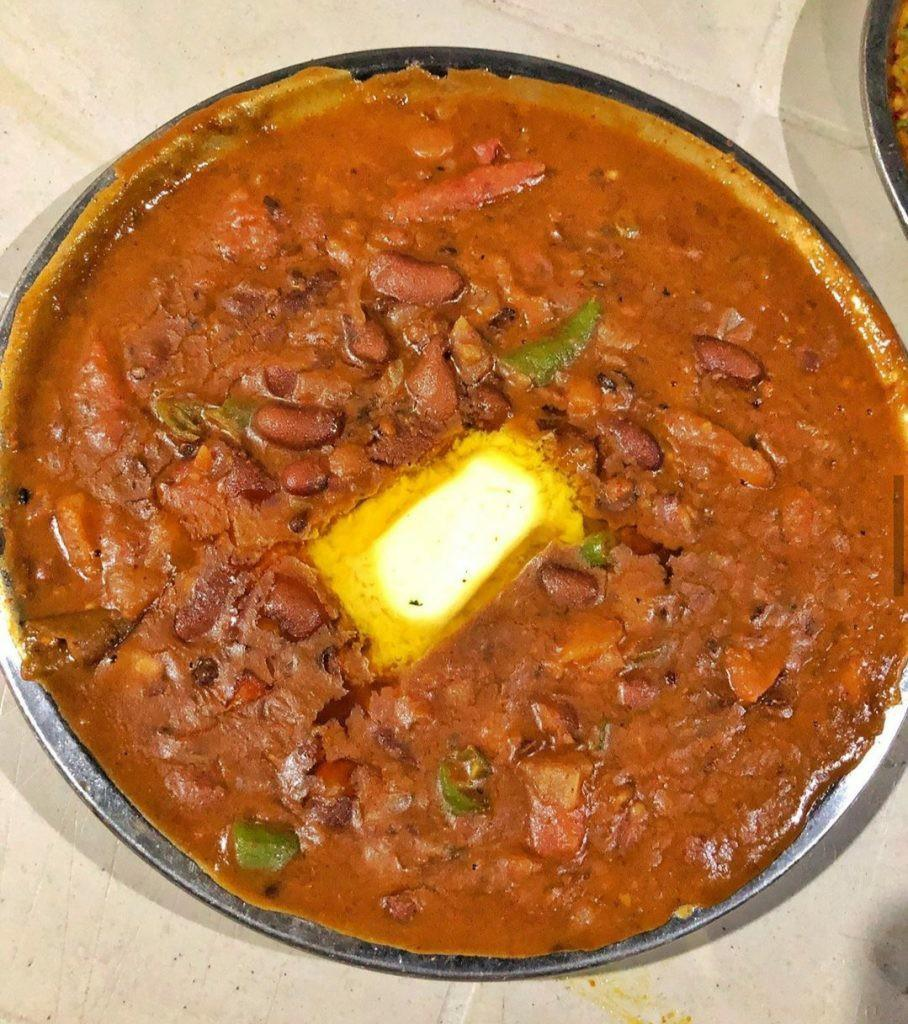RajmaCurry: (0, 75, 903, 958)
